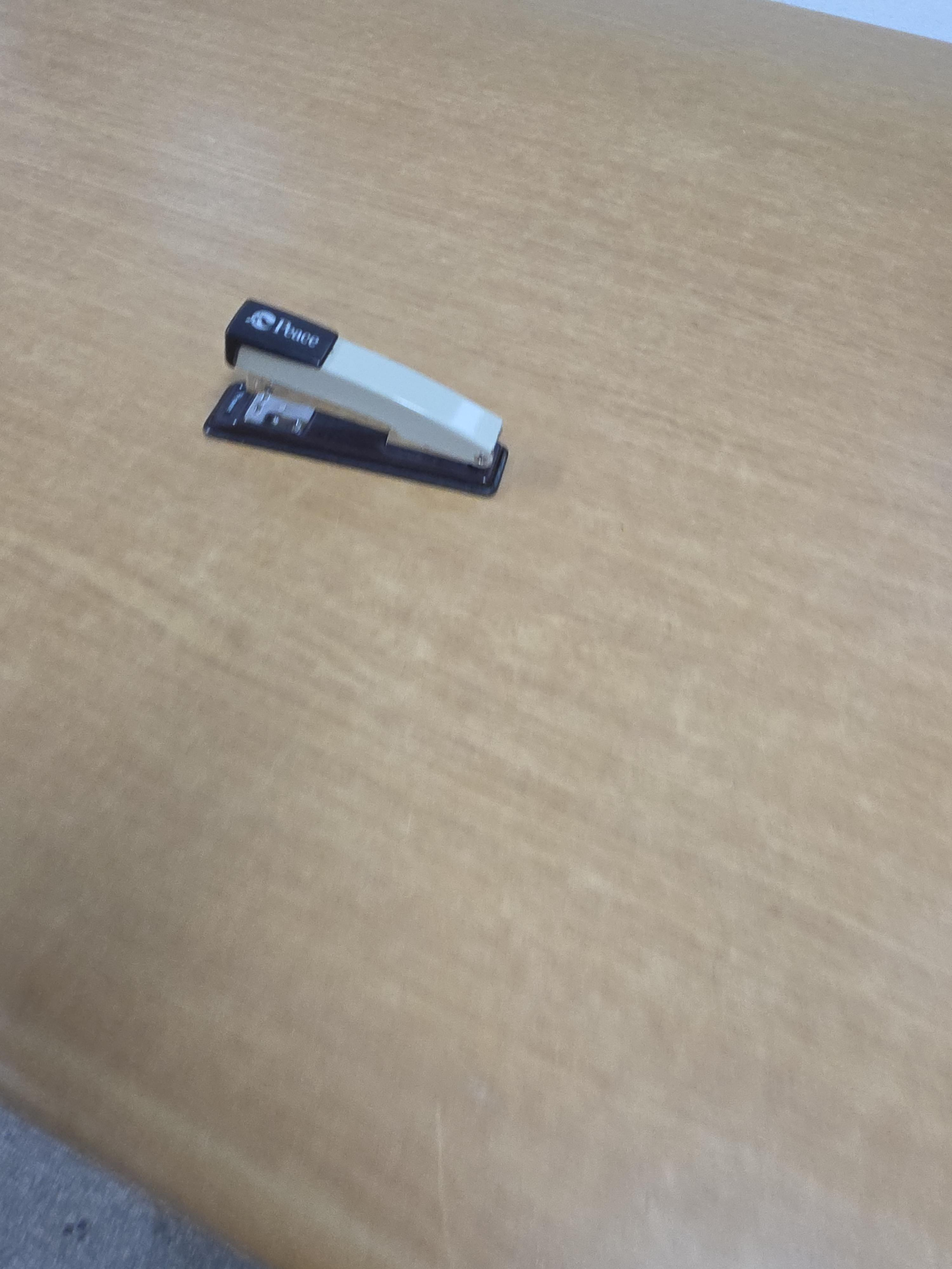stapler: (201, 298, 509, 497)
